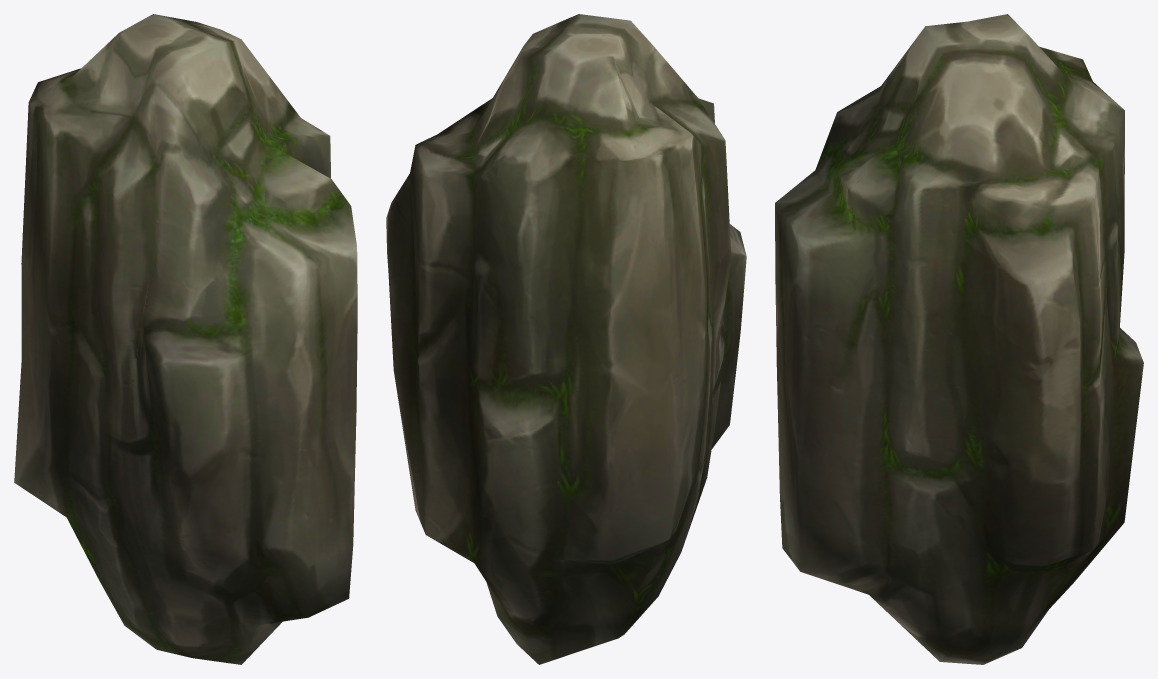
Rendered from RockFormation_4_2 (21).fbx.
3 views of the same model, side by side, from view 1: azimuth 30°, elevation 25°; view 2: azimuth 150°, elevation 25°; view 3: azimuth 270°, elevation 25° (orthographic). The views are drawn at different scales.
Parts seen in each view (by area): view 1: RockFormation_4_2 (21); view 2: RockFormation_4_2 (21); view 3: RockFormation_4_2 (21).
Part boxes in pixels (<box>): RockFormation_4_2 (21): <box>14,14,357,664</box>; RockFormation_4_2 (21): <box>386,14,746,664</box>; RockFormation_4_2 (21): <box>775,14,1143,664</box>.
Size of the model in its own units: 109 by 226 by 123.
Materials: 1 (1 with a texture image).
